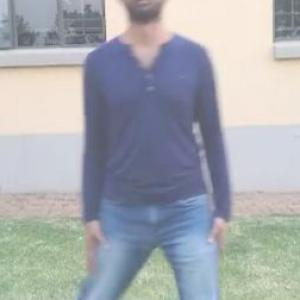follow: (102, 0, 236, 299)
